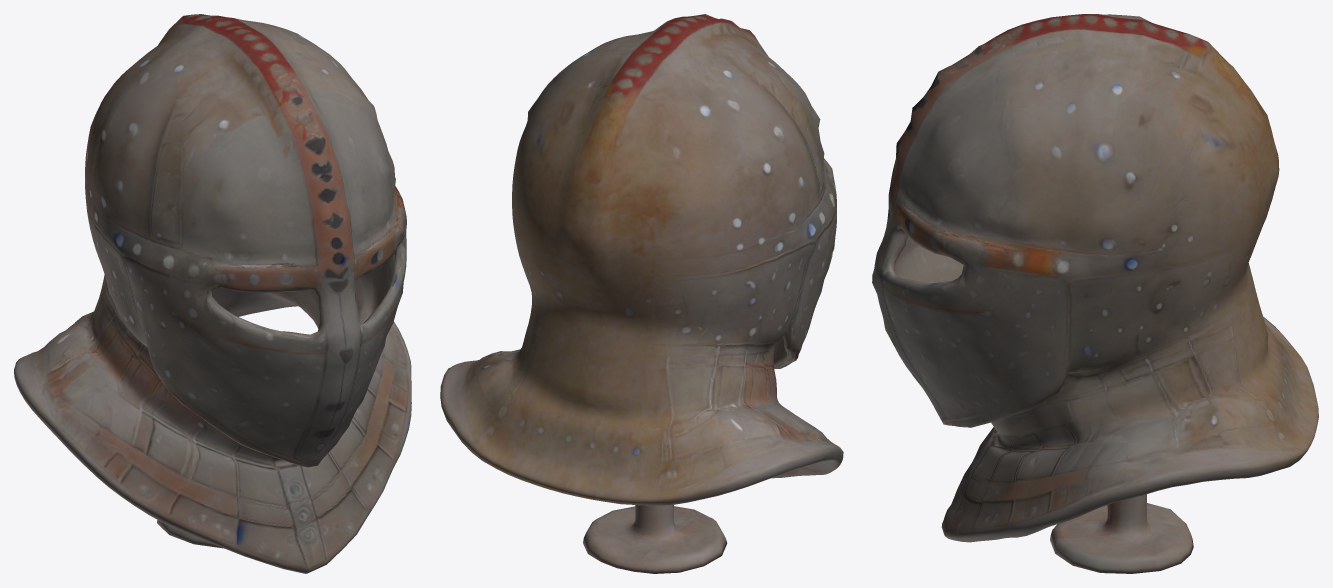
The model's file is Studded Leather Helmet.glb.
3 renders of one model, left to right at view 1: azimuth 30°, elevation 25°; view 2: azimuth 150°, elevation 25°; view 3: azimuth 270°, elevation 25°, orthographic. The views are drawn at different scales.
Parts seen in each view (by area): view 1: file1; view 2: file1; view 3: file1.
Boxes of the visible parts, x1=… form: file1: x1=14, y1=14, x2=411, y2=573; file1: x1=440, y1=14, x2=843, y2=573; file1: x1=872, y1=14, x2=1318, y2=573.
Bounding box in the file's own units: 1.48 × 1.98 × 1.52.
Materials: 1 (1 with a texture image).
